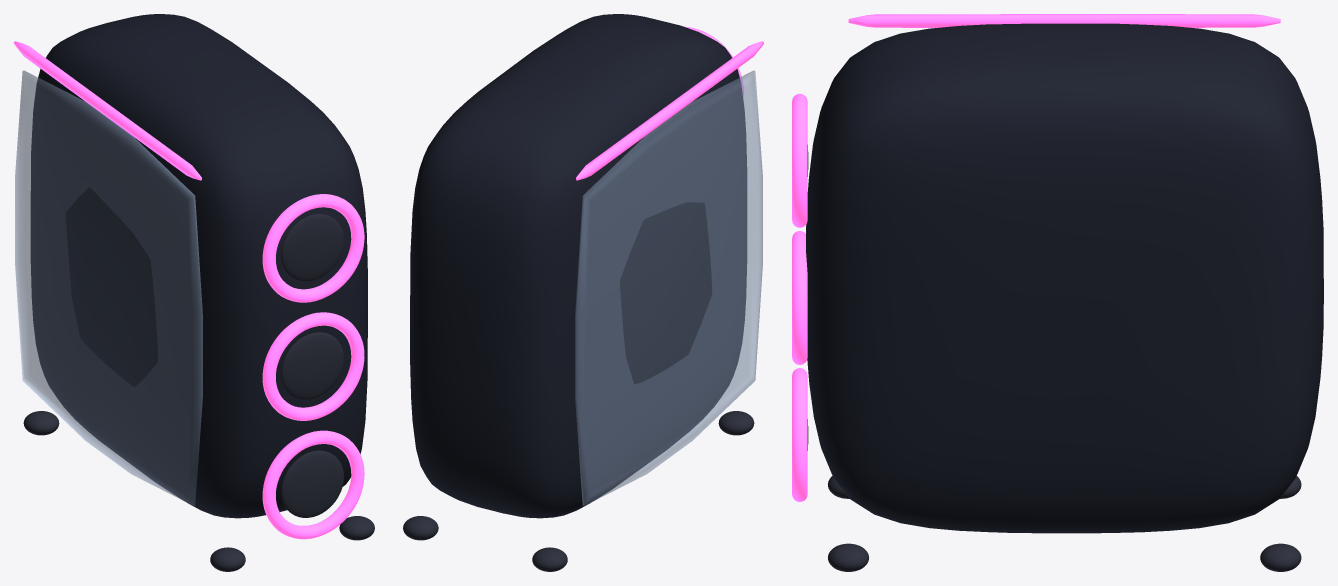
File: deco_torre_pc.glb
The picture shows the model from 3 angles, left to right: view 1: azimuth 30°, elevation 25°; view 2: azimuth 150°, elevation 25°; view 3: azimuth 270°, elevation 25°; orthographic projection. The views are drawn at different scales.
Parts seen in each view (by area): view 1: torre.001, vidrio torre.001, ventilador 2.001, ventilador 0.001, ventilador 1.001, aspas 0.001, aspas 1.001, aspas 2.001, franja luz.001, pata torre -11.001, pata torre -1-1.001, pata torre 1-1.001; view 2: torre.001, vidrio torre.001, franja luz.001, pata torre 11.001, pata torre -1-1.001, pata torre -11.001; view 3: torre.001, franja luz.001, ventilador 0.001, ventilador 2.001, ventilador 1.001, pata torre 11.001, pata torre 1-1.001.
Boxes of the visible parts, box(x1,y1,x2,y2) form: torre.001: box(31, 14, 367, 518); vidrio torre.001: box(15, 70, 202, 505); ventilador 2.001: box(262, 430, 364, 539); ventilador 0.001: box(262, 194, 364, 302); ventilador 1.001: box(262, 312, 364, 420); aspas 0.001: box(281, 214, 343, 281); aspas 1.001: box(281, 332, 343, 399); aspas 2.001: box(281, 450, 343, 517); franja luz.001: box(14, 41, 201, 180); pata torre -11.001: box(23, 411, 59, 435); pata torre -1-1.001: box(210, 547, 245, 571); pata torre 1-1.001: box(339, 516, 374, 540); torre.001: box(410, 14, 746, 518); vidrio torre.001: box(575, 70, 762, 505); franja luz.001: box(576, 41, 763, 180); pata torre 11.001: box(403, 516, 438, 540); pata torre -1-1.001: box(718, 411, 754, 435); pata torre -11.001: box(532, 547, 567, 571); torre.001: box(806, 23, 1323, 533); franja luz.001: box(848, 14, 1280, 27); ventilador 0.001: box(792, 93, 807, 227); ventilador 2.001: box(792, 368, 807, 501); ventilador 1.001: box(792, 231, 807, 364); pata torre 11.001: box(1260, 543, 1301, 571); pata torre 1-1.001: box(828, 543, 868, 571).
Size of the model in its own units: 0.2268 by 0.4994 by 0.4921.
